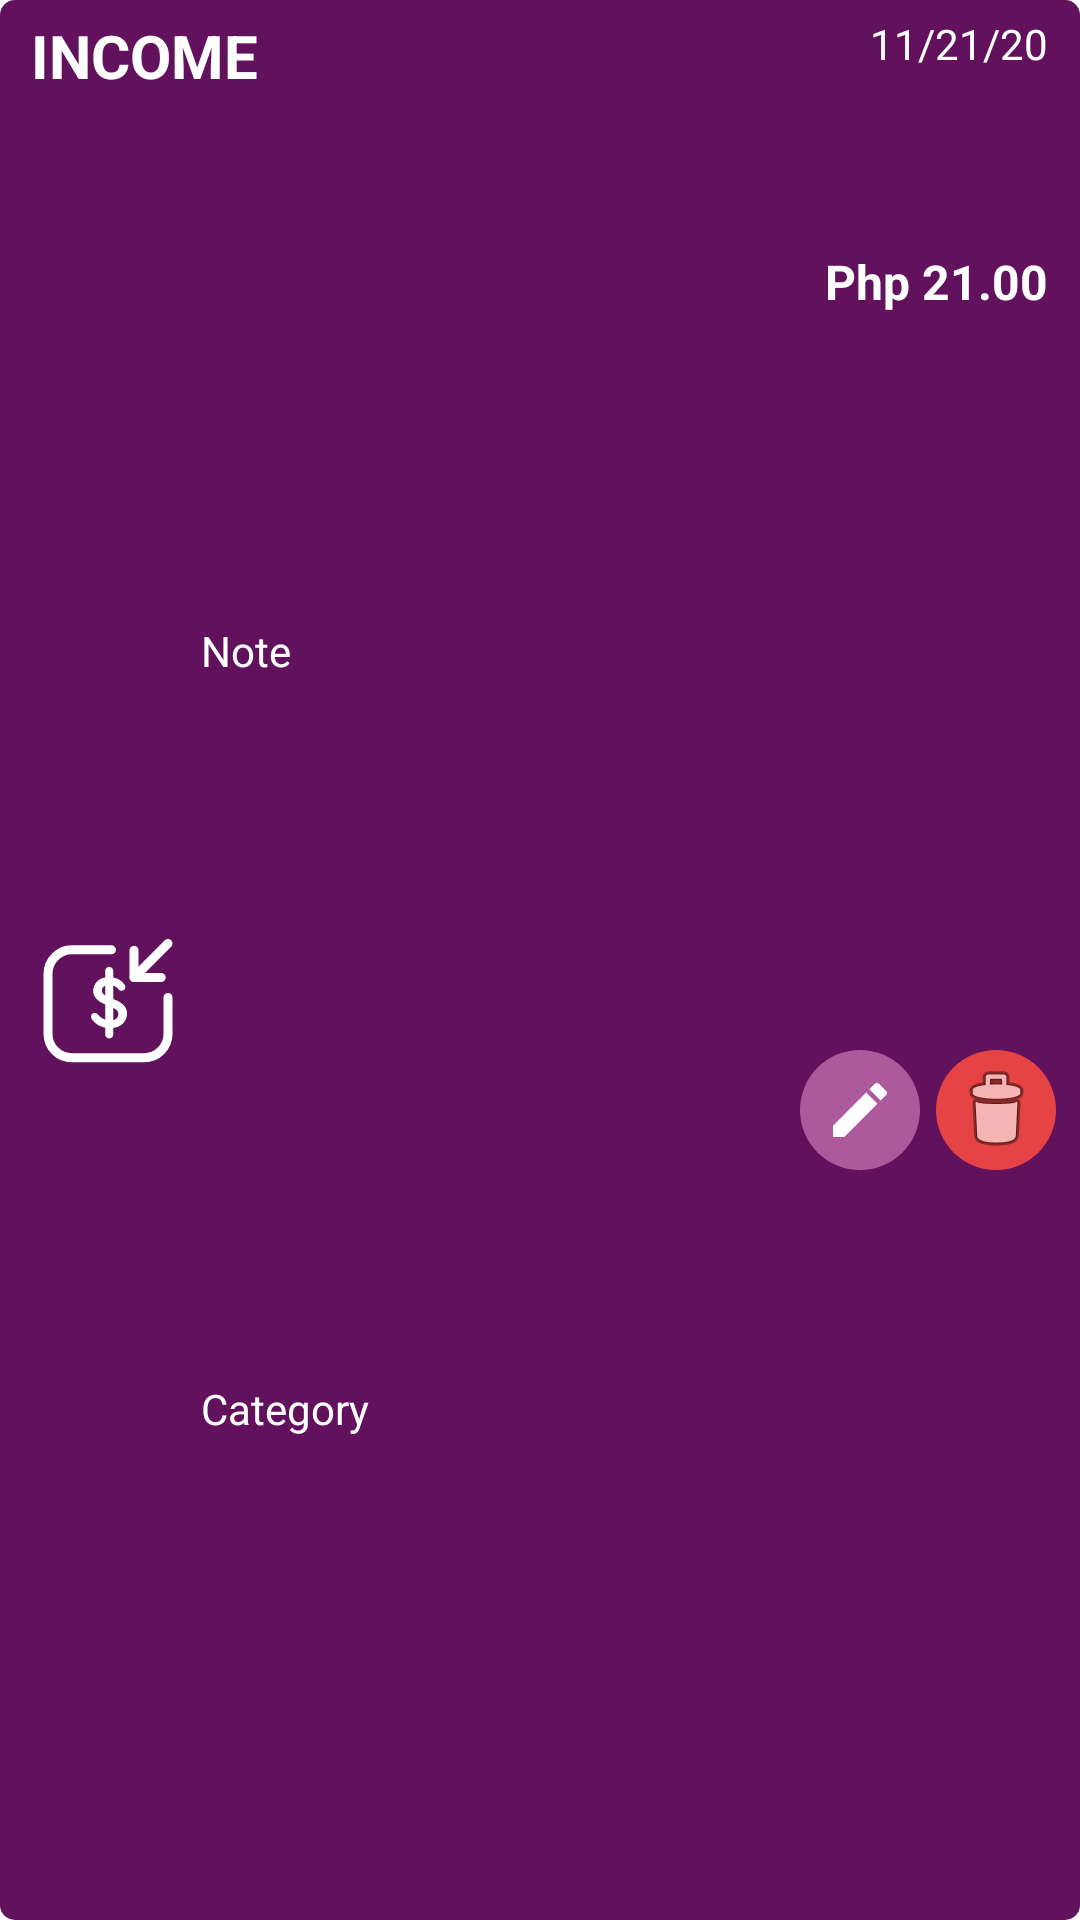

Icon bounding boxes for this 1080 × 1920 phone screenshot, format (x1, y1, x2, y2):
delete: (936, 1050, 1056, 1170)
edit: (800, 1050, 920, 1170)
income: (43, 939, 173, 1063)
